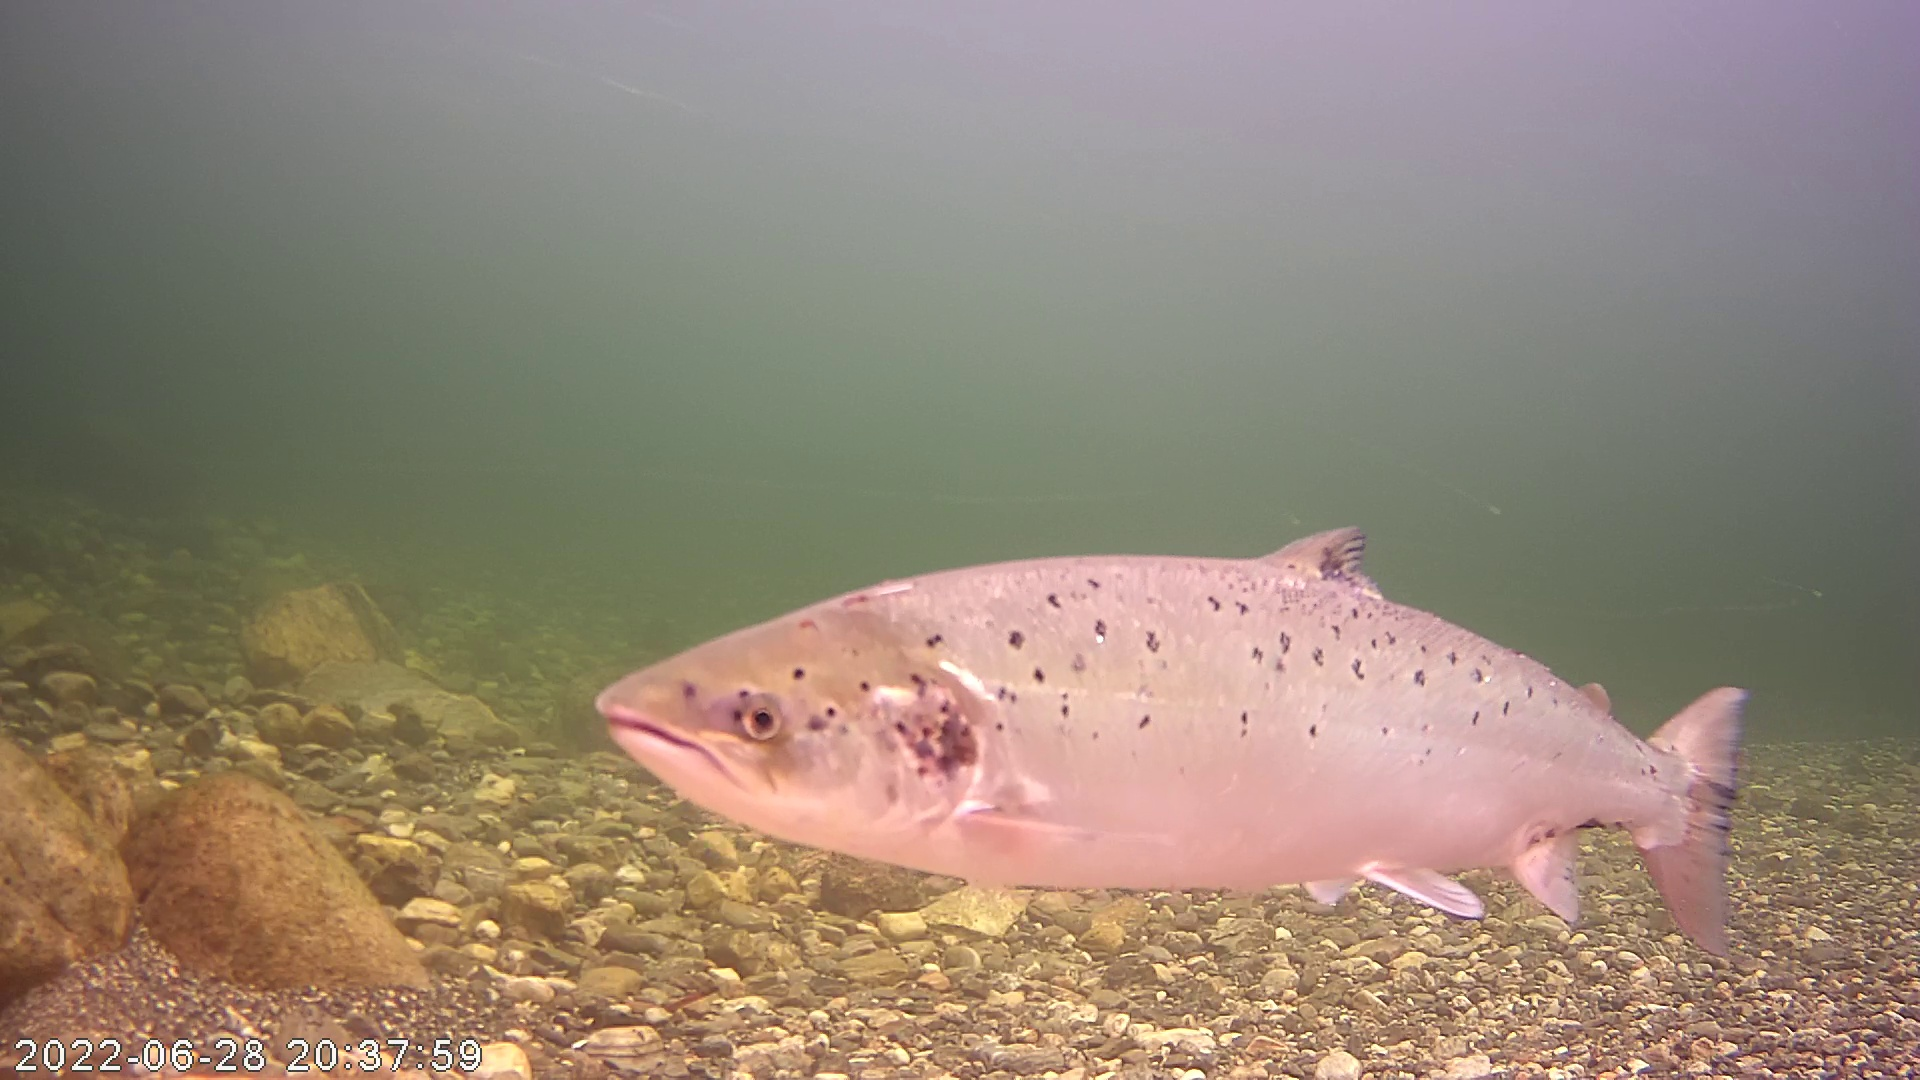salmon: (582, 510, 1758, 969)
